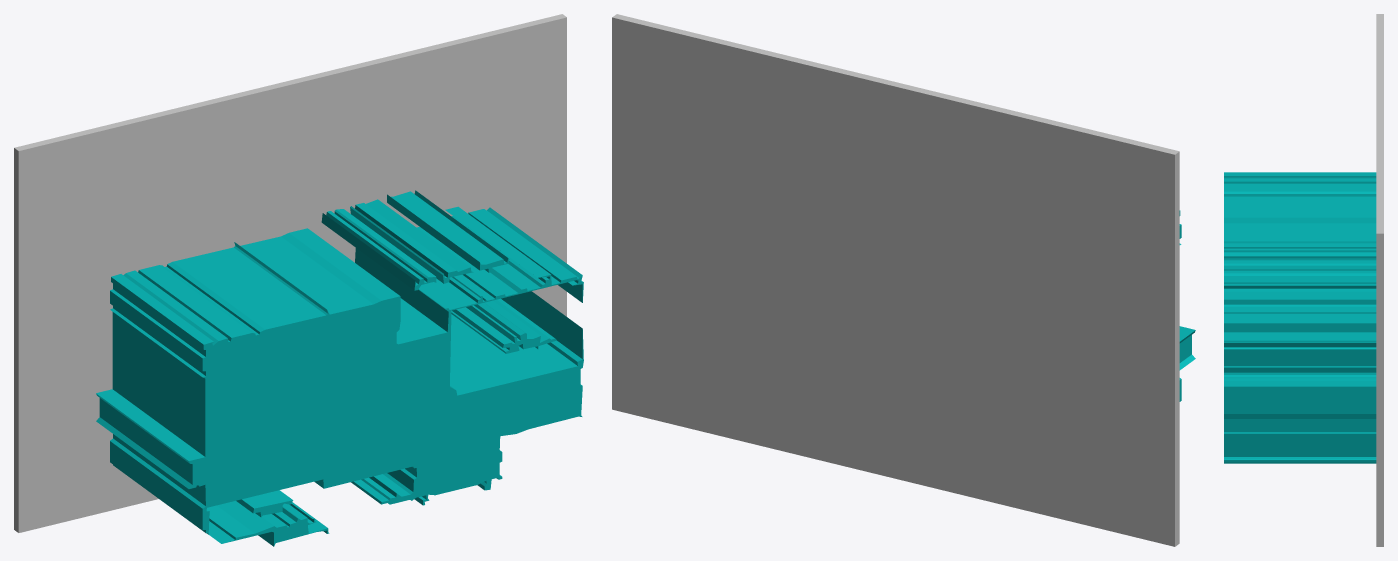
3 views of the same model, side by side, from view 1: azimuth 30°, elevation 25°; view 2: azimuth 150°, elevation 25°; view 3: azimuth 270°, elevation 25° (orthographic). The views are drawn at different scales.
Visible parts, largest first — view 1: world; view 2: world; view 3: world.
Part boxes in pixels (bbox=[...]): world: bbox=[14, 14, 583, 546]; world: bbox=[612, 14, 1195, 546]; world: bbox=[1224, 14, 1383, 546].
Bounding box in the file's own units: 10.23 × 6.81 × 3.15.
